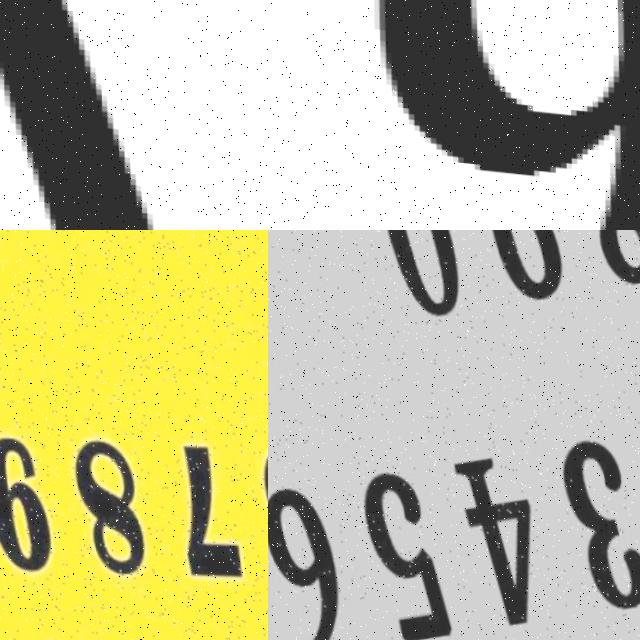0: (349, 230, 483, 341)
3: (538, 415, 640, 628)
4: (430, 425, 567, 640)
5: (334, 448, 473, 640)
6: (354, 0, 640, 230), (268, 451, 372, 640), (245, 426, 268, 595)
7: (151, 411, 253, 595)
8: (54, 421, 161, 604), (553, 230, 640, 308)
9: (449, 230, 583, 326), (0, 405, 64, 596)
Y: (0, 0, 202, 230)
